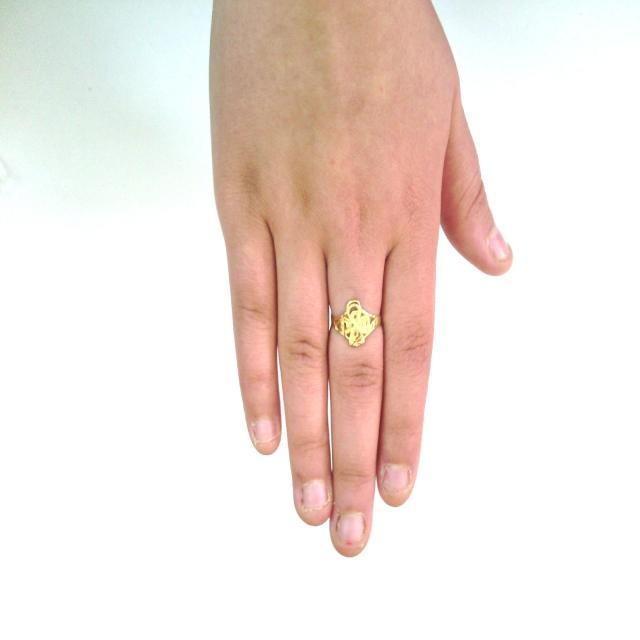Fingernail: (382, 466, 409, 495), (339, 513, 364, 544), (302, 482, 328, 510), (489, 230, 510, 260), (254, 420, 277, 445)
